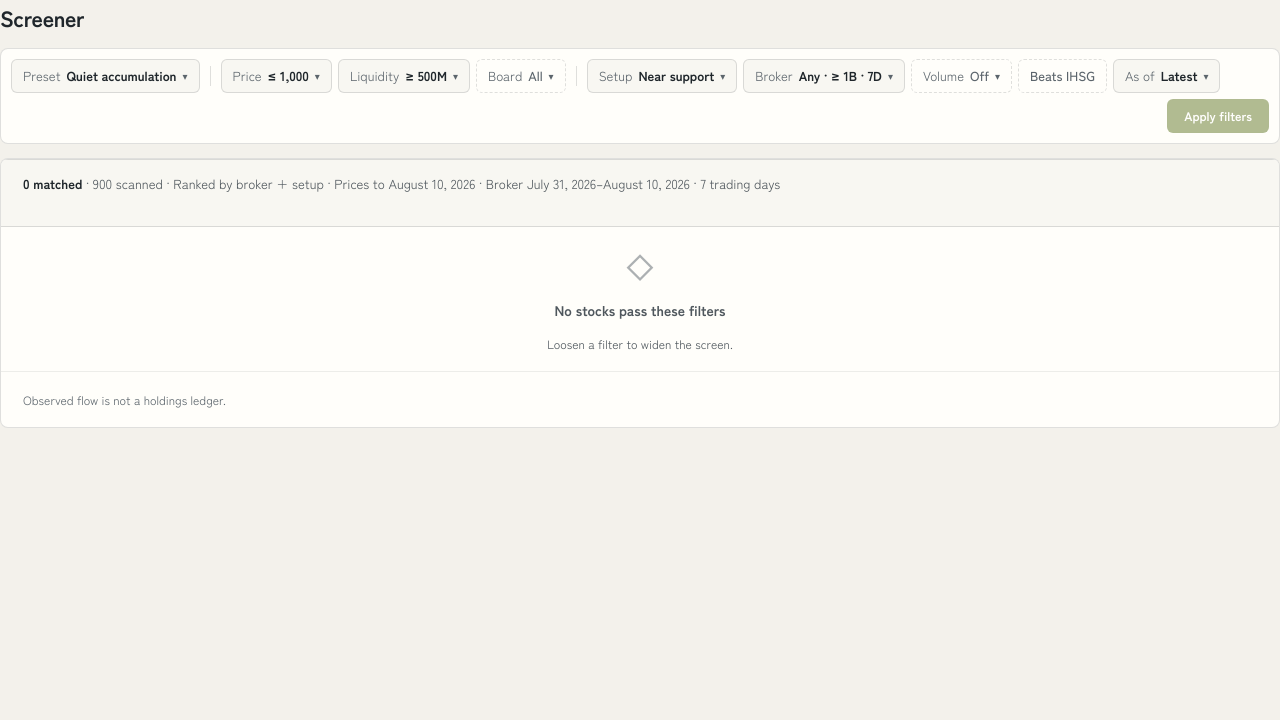
Radar › treats setup as a single choice and shows Custom once the slots leave a preset
The width and height of the screenshot is (1280, 720).
Expected: the button "Preset Quiet accumulation ▾" is shown, [11,58,200,92]
Click the button "Setup Near support ▾".
click(662, 76)  # box [587,58,737,92]
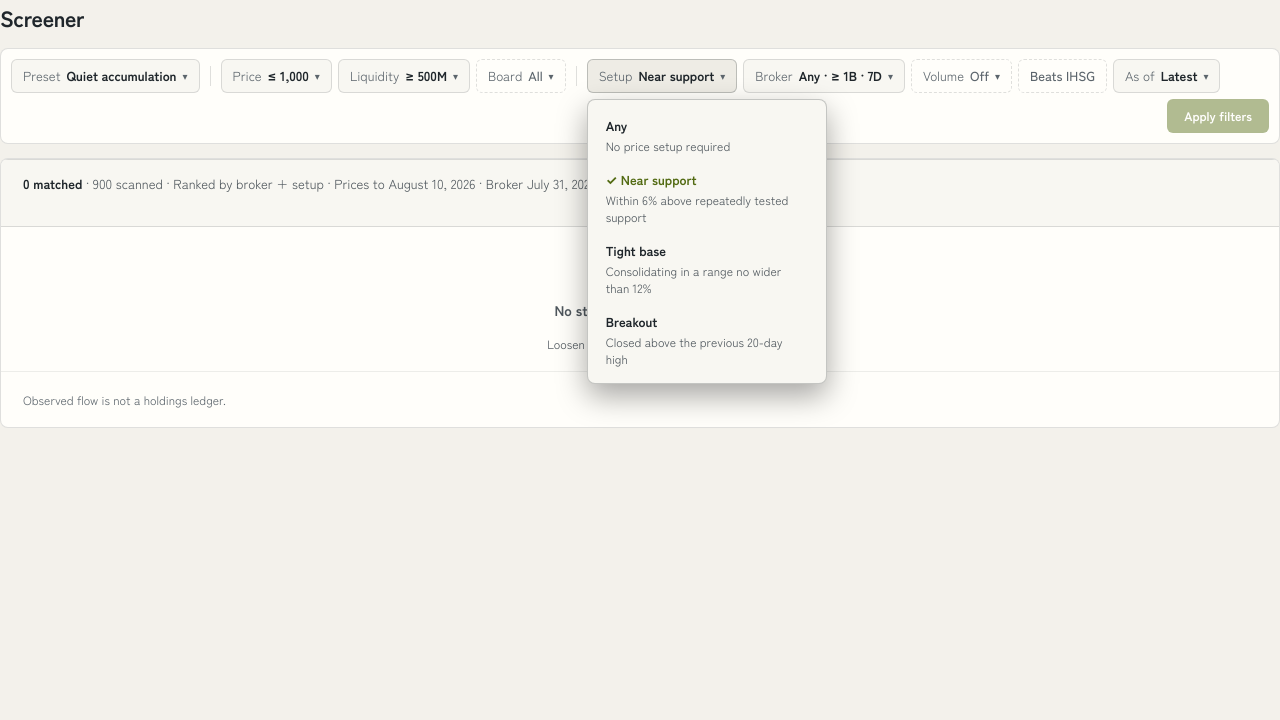
Click the button "Tight base Consolidating in a range no wider than 12%".
click(707, 268)  # box [596,232,818,304]
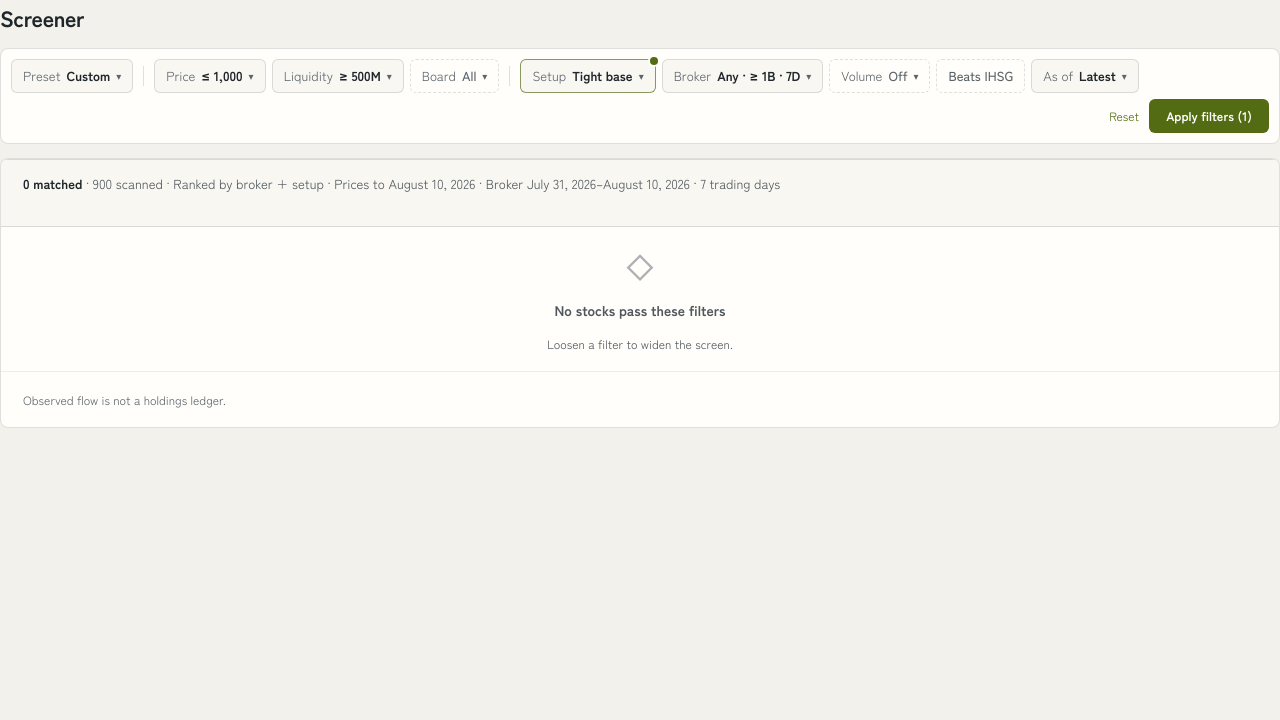
Expected: the button "Preset Custom ▾" is shown, [11,58,133,92]
Click the button "Apply filters (1)".
click(1209, 116)  # box [1149,98,1269,132]
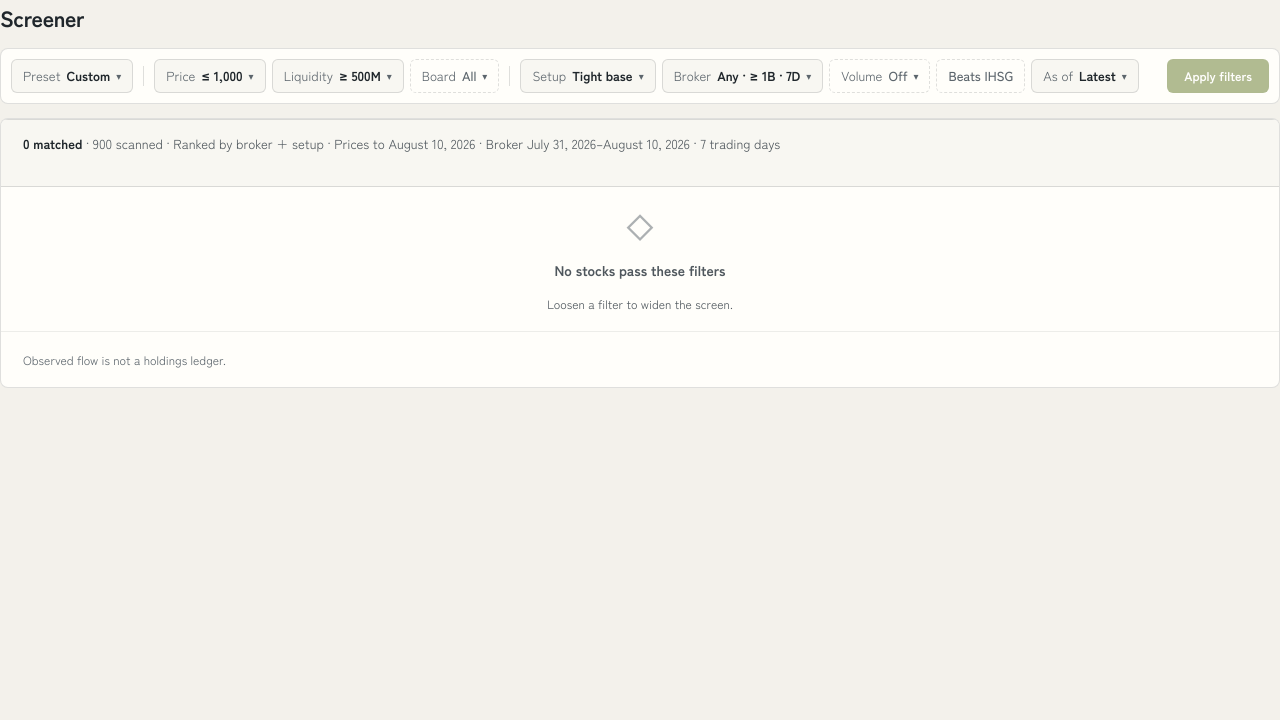
Expected: the button "Preset Custom ▾" is shown
Click the button "Preset Custom ▾".
click(72, 76)  # box [11,58,133,92]
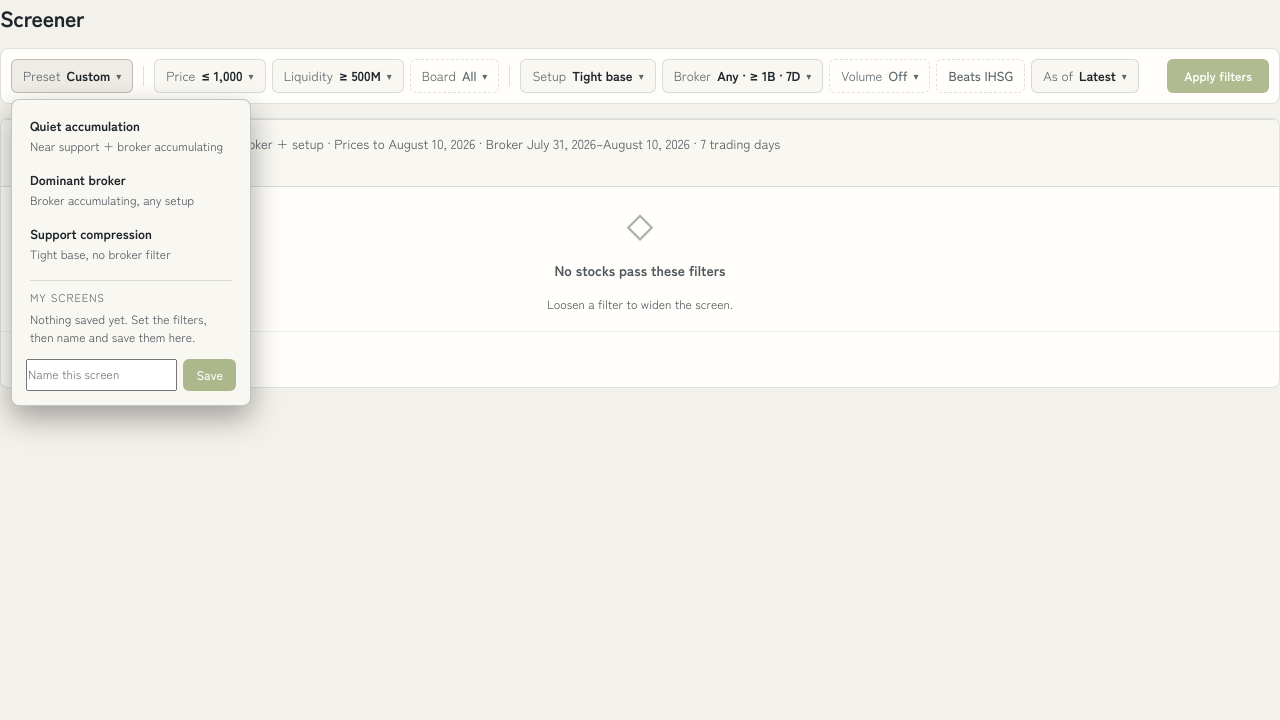
Click the button "Support compression Tight base, no broker filter".
click(131, 242)  # box [20,216,242,270]
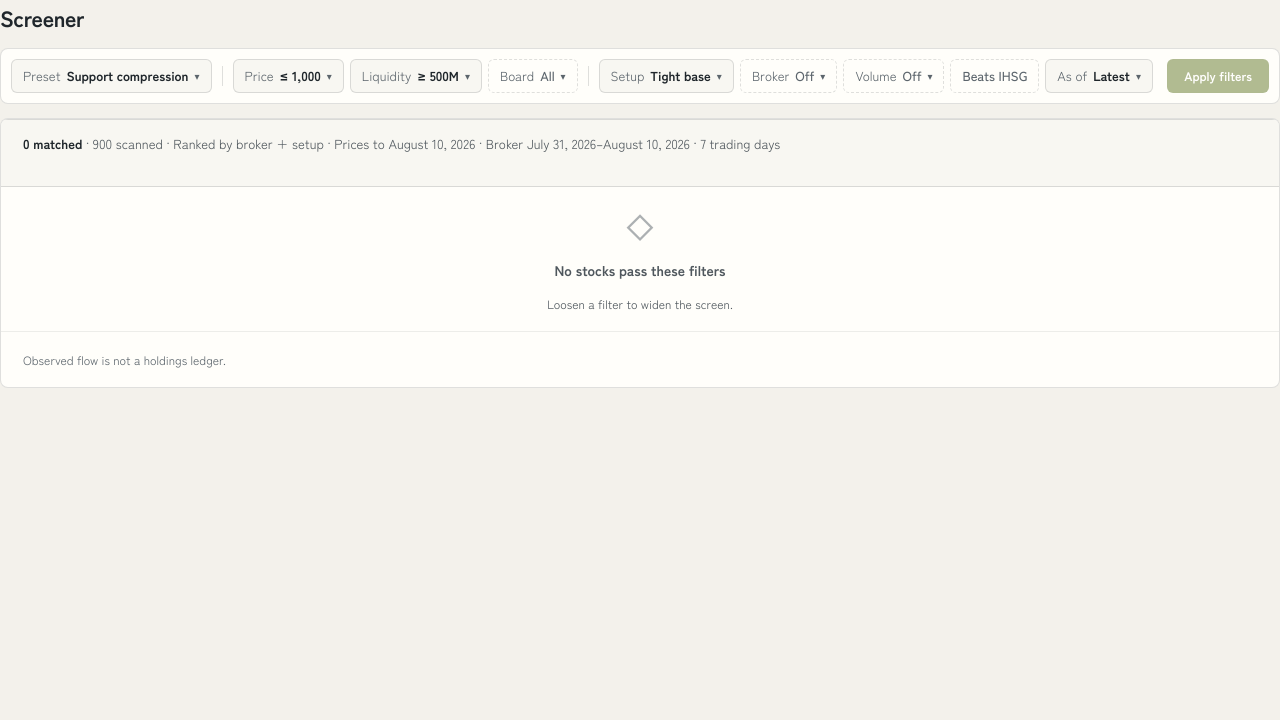
Expected: the button "Broker Off ▾" is shown, [740,58,837,92]
